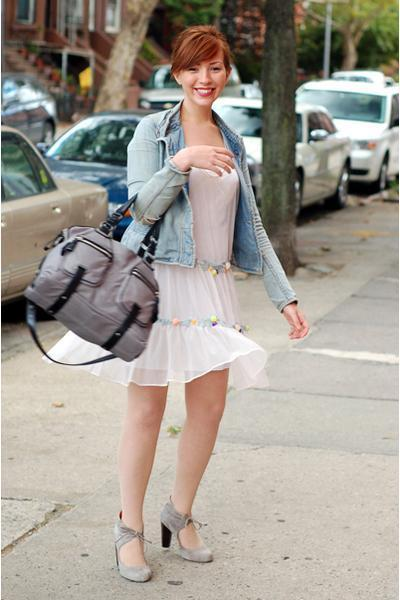bag: (27, 228, 159, 364)
jacket: (118, 108, 297, 313)
shirt: (184, 163, 245, 282)
shoe: (119, 507, 207, 576)
skirt: (132, 264, 249, 385)
